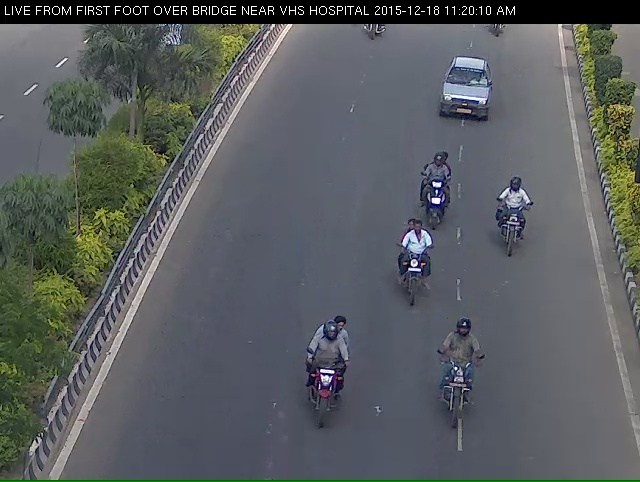Car: (433, 53, 497, 130)
Person: (435, 338, 489, 453), (297, 331, 346, 441), (393, 223, 438, 318), (415, 158, 459, 234), (496, 180, 533, 267)
